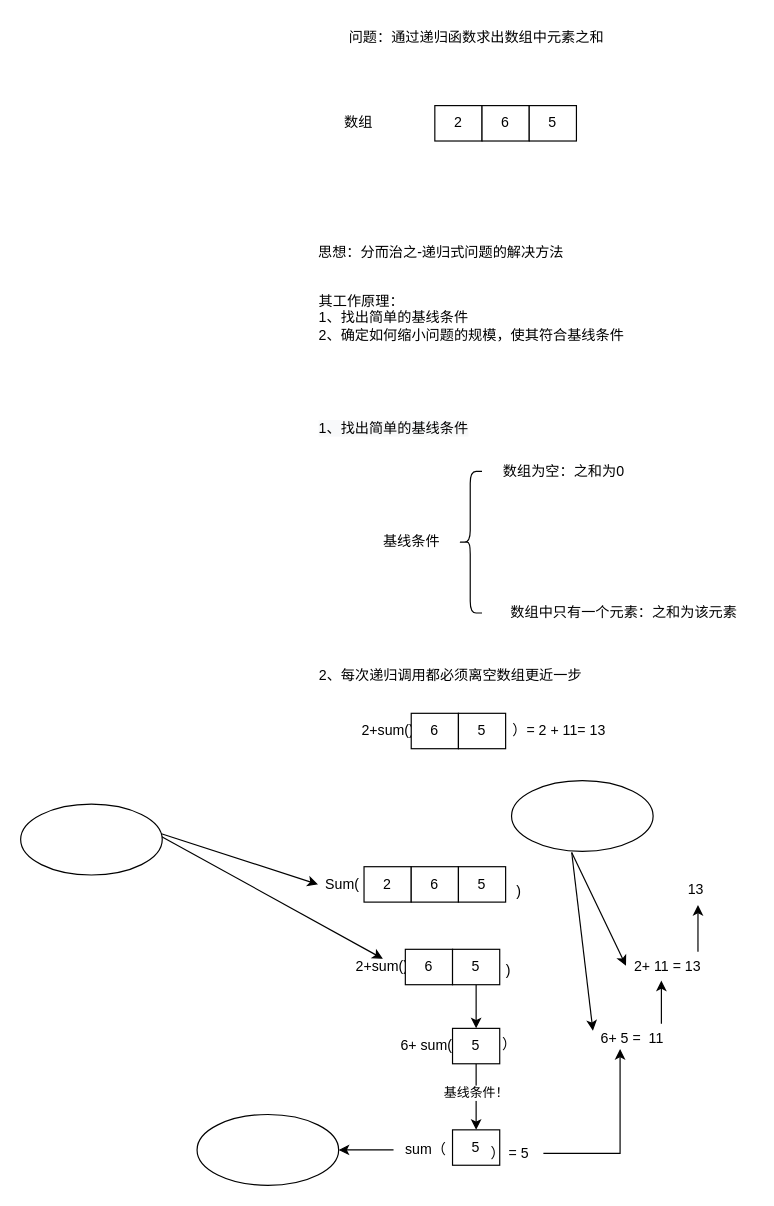
Image size: 774x1206. Some labels were removed from this diagram. The shapes that lost their labels are listed below. From the top down, each one's centre as x and y in pixels, then its label:
point 581,815: 递归保存了这些未完成的函数调用的状态
point 90,839: 遇到基线条件前，这些函数都没完成！
point 267,1149: 这个函数调用 最先完成
